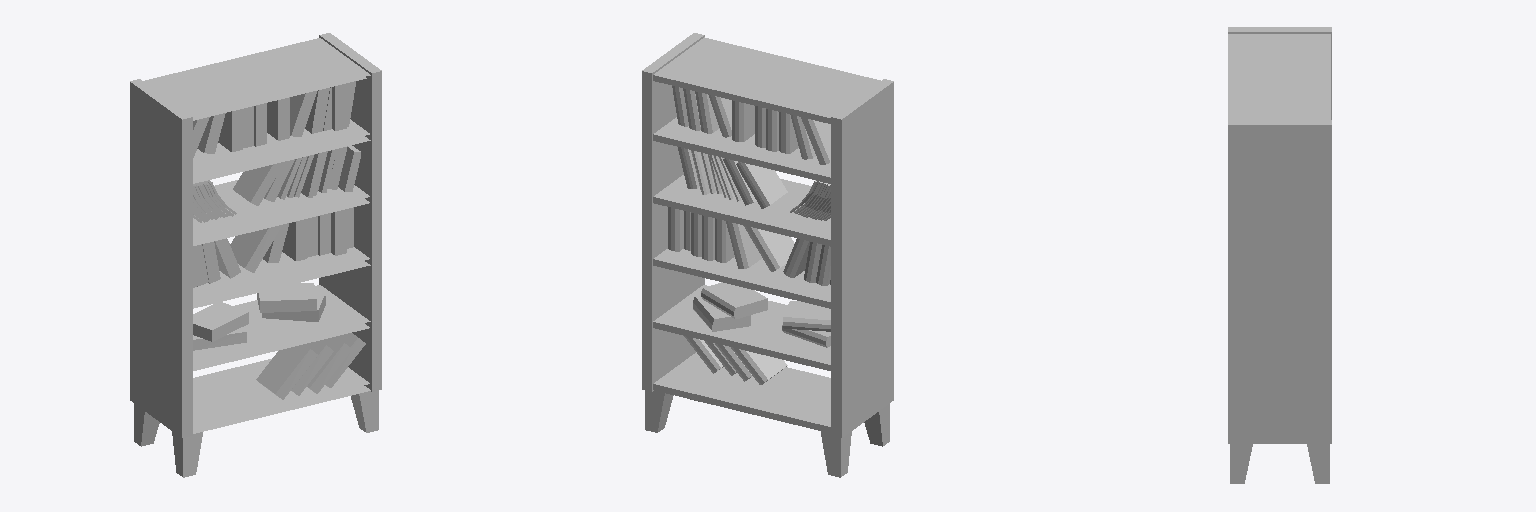
The model's file is bookcase.obj.
The picture shows the model from 3 angles: view 1: azimuth 30°, elevation 25°; view 2: azimuth 150°, elevation 25°; view 3: azimuth 270°, elevation 25°; orthographic projection.
Parts seen in each view (by area): view 1: bookcase:mesh group; view 2: bookcase:mesh group; view 3: bookcase:mesh group.
Part boxes in pixels (x1,y1,x2,y2): bookcase:mesh group: (130, 33, 381, 477); bookcase:mesh group: (642, 33, 893, 477); bookcase:mesh group: (1228, 27, 1331, 483).
Size of the model in its own units: 72.42 by 124 by 32.83.